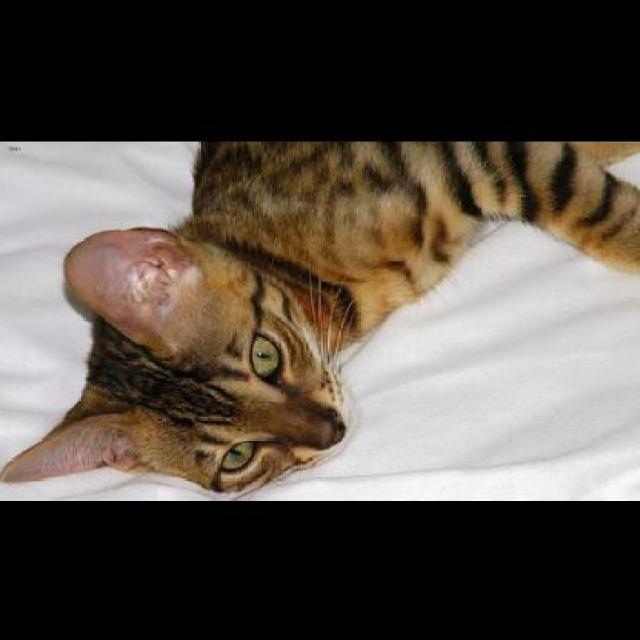unauthorized: (0, 136, 638, 498)
